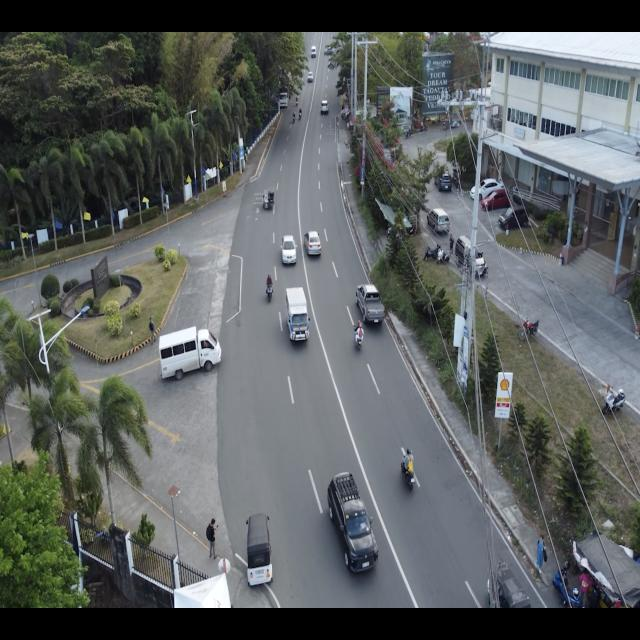bicycle: (509, 184, 520, 196)
car: (325, 470, 380, 576), (158, 325, 222, 381), (454, 234, 488, 280), (285, 285, 311, 345), (355, 282, 387, 326), (498, 205, 529, 232), (470, 177, 505, 200), (427, 206, 451, 235), (481, 188, 511, 211), (280, 234, 298, 264), (304, 230, 322, 257), (320, 100, 329, 115), (306, 71, 314, 83), (311, 46, 317, 58)
motorcycle: (400, 447, 418, 492), (602, 385, 626, 417), (206, 517, 220, 561), (518, 317, 540, 341), (422, 244, 440, 262), (354, 320, 364, 352), (265, 272, 274, 305), (436, 247, 451, 265), (292, 110, 296, 122), (298, 108, 302, 120), (296, 95, 298, 107)
person: (535, 534, 549, 574)
truck: (278, 87, 288, 108)
